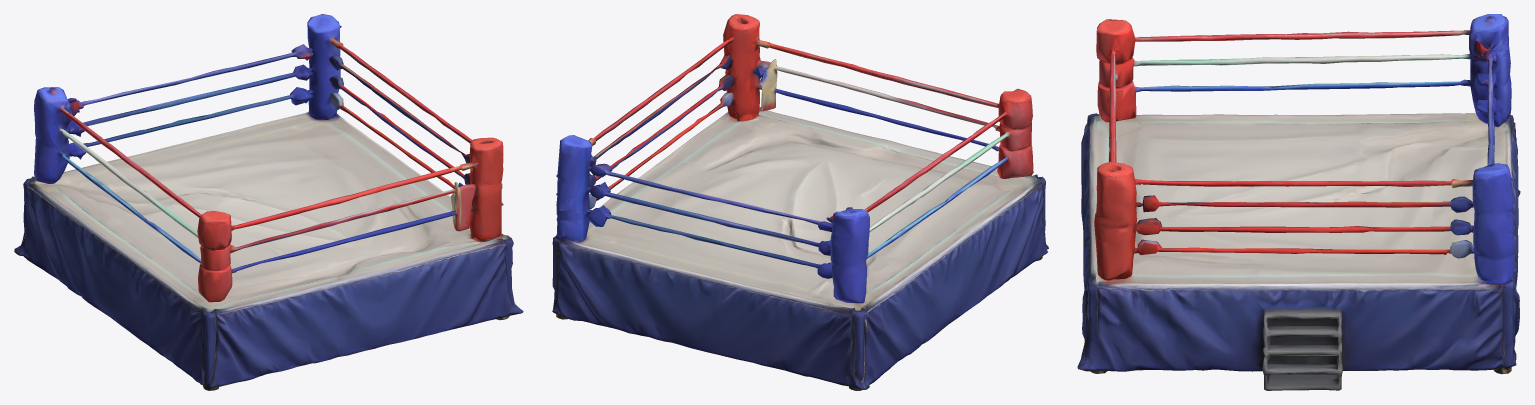
File: boxing_ring.glb
3 views of the same model, side by side, from view 1: azimuth 30°, elevation 25°; view 2: azimuth 150°, elevation 25°; view 3: azimuth 270°, elevation 25° (orthographic). The views are drawn at different scales.
Visible parts, largest first — view 1: tripo_node_7b903561-ba7f-4541-8255-76a605469885; view 2: tripo_node_7b903561-ba7f-4541-8255-76a605469885; view 3: tripo_node_7b903561-ba7f-4541-8255-76a605469885.
Boxes of the visible parts, box(x1,y1,x2,y2) form: tripo_node_7b903561-ba7f-4541-8255-76a605469885: box(14, 14, 523, 390); tripo_node_7b903561-ba7f-4541-8255-76a605469885: box(552, 14, 1048, 390); tripo_node_7b903561-ba7f-4541-8255-76a605469885: box(1077, 14, 1520, 390).
Bounding box in the file's own units: 2.1 × 1 × 2.01.
Materials: 1 (1 with a texture image).
